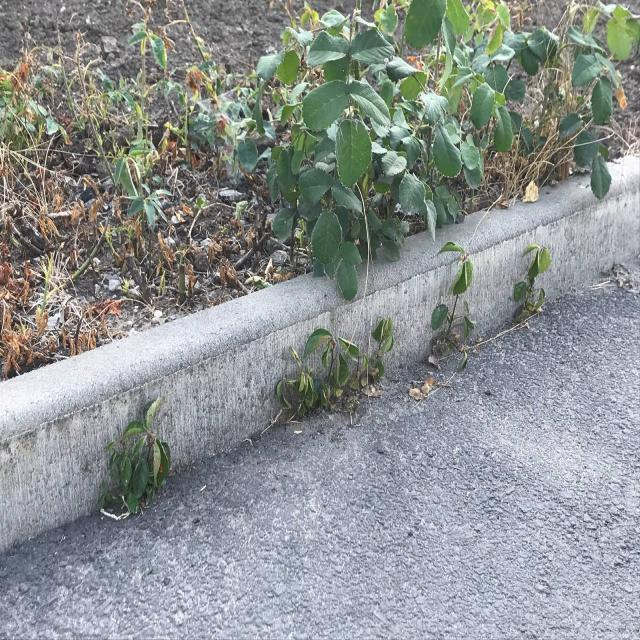bump: (0, 278, 305, 557)
